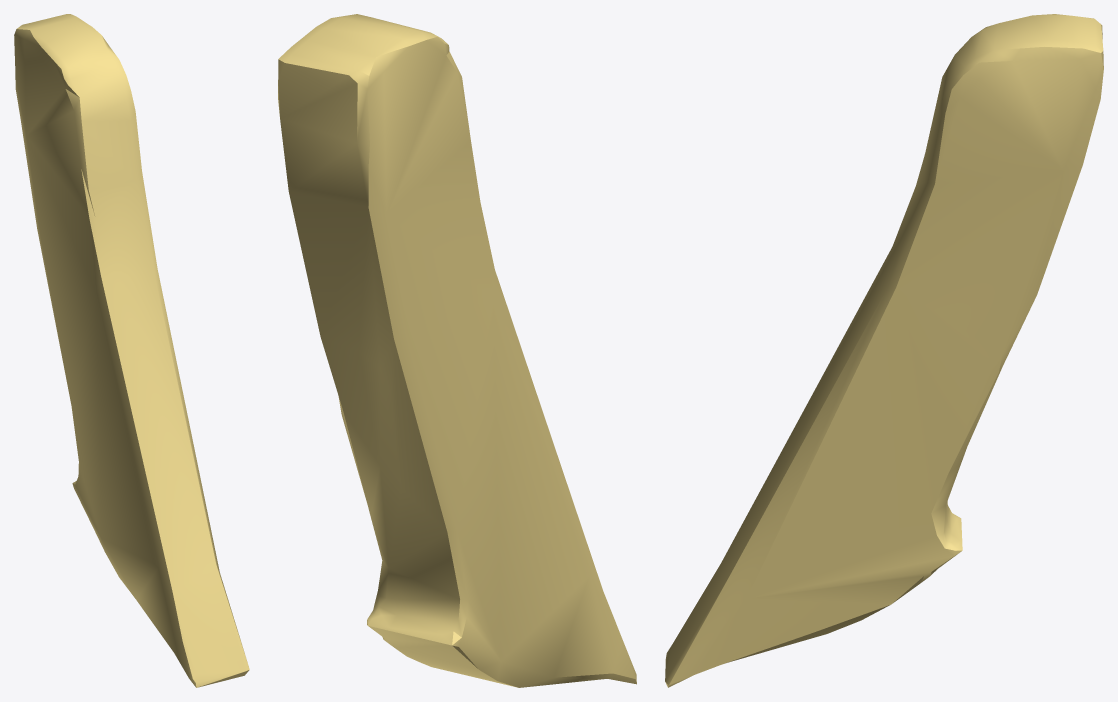
Rendered from fma61975_fj1812.glb.
The picture shows the model from 3 angles, left to right: view 1: azimuth 30°, elevation 25°; view 2: azimuth 150°, elevation 25°; view 3: azimuth 270°, elevation 25°; orthographic projection. The views are drawn at different scales.
Parts seen in each view (by area): view 1: FMA61975_FJ1812; view 2: FMA61975_FJ1812; view 3: FMA61975_FJ1812.
Part boxes in pixels (x1,y1,x2,y2): FMA61975_FJ1812: (14, 14, 249, 687); FMA61975_FJ1812: (278, 14, 636, 687); FMA61975_FJ1812: (665, 14, 1103, 687).
Bounding box in the file's own units: 0.00141 × 0.0119 × 0.00731.
